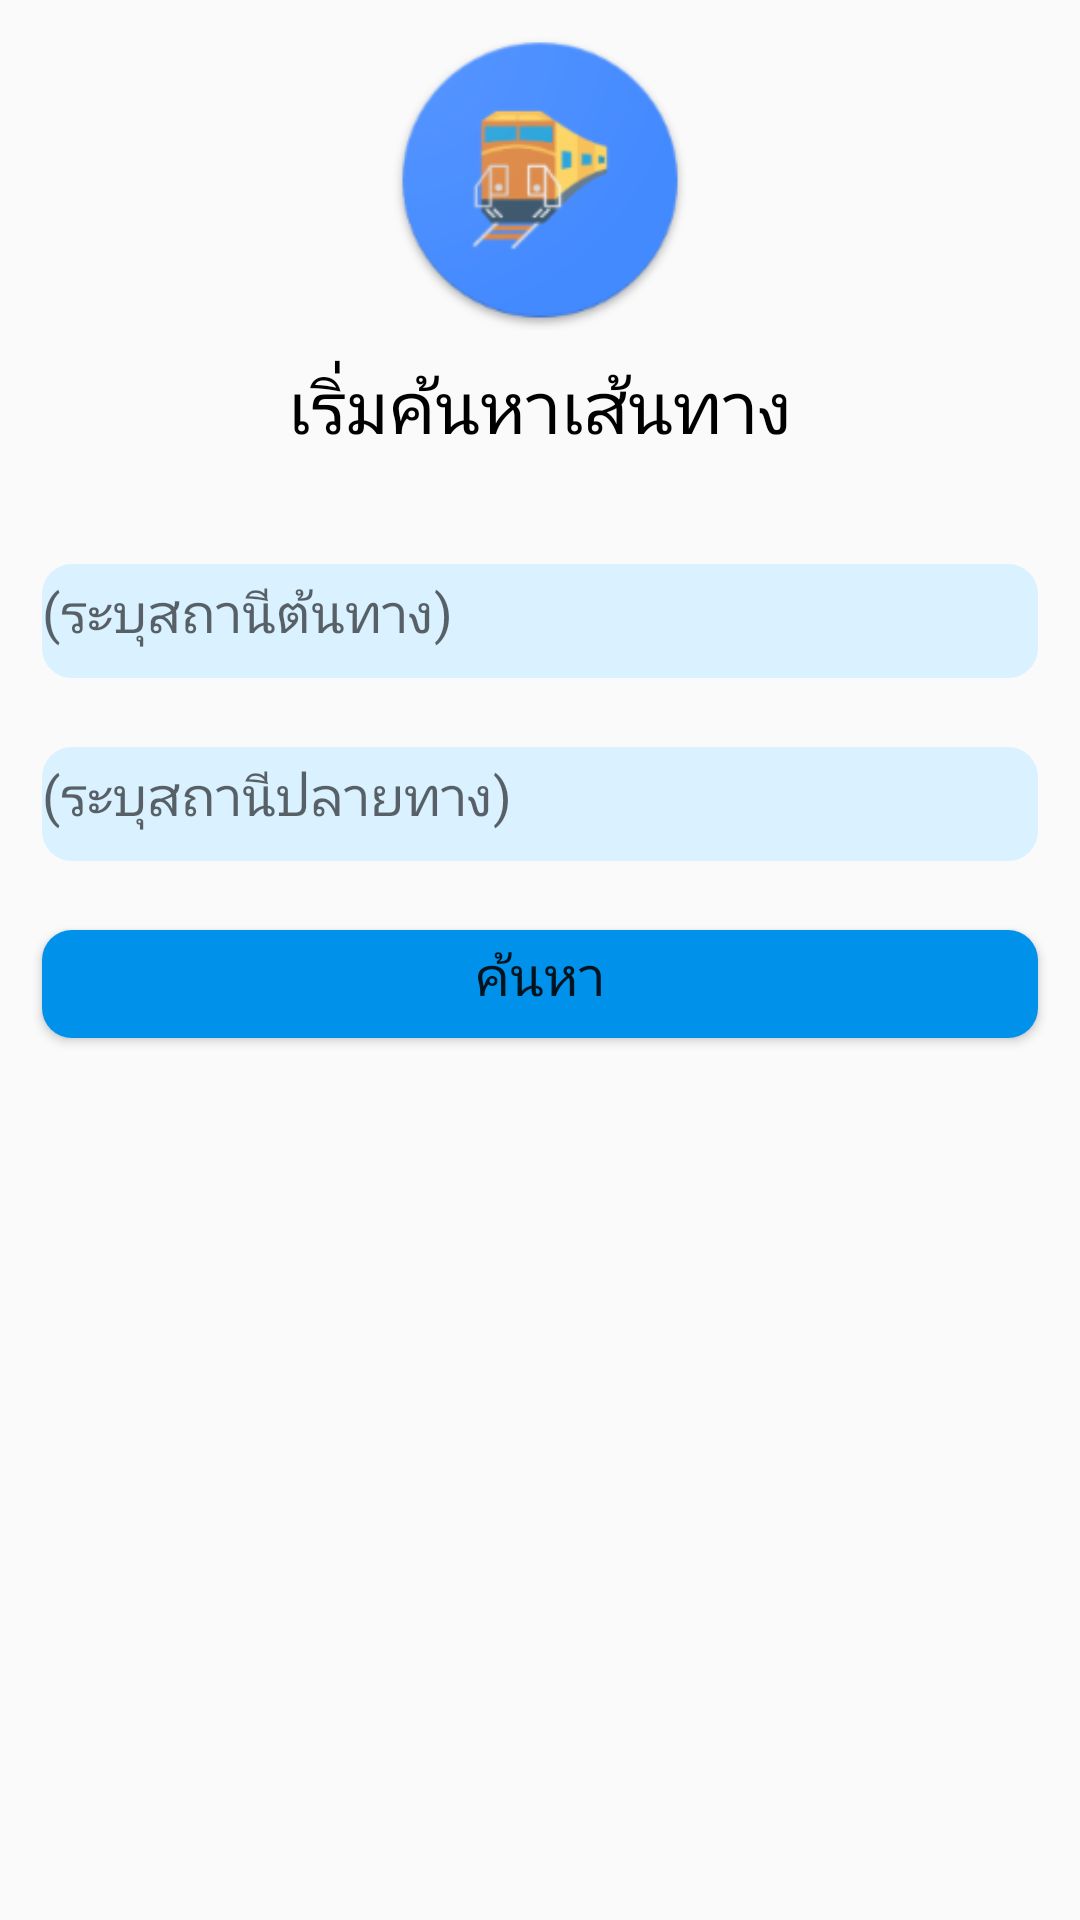

Screen size 1080x1920. Icon name, then its box in pixels as [x1,y1,x2,y2]:
iconcircle: [401,42,679,324]
